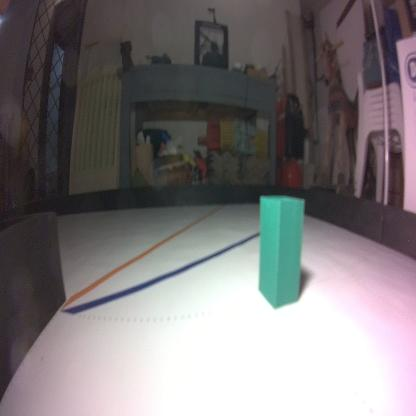green: (257, 194, 305, 309)
